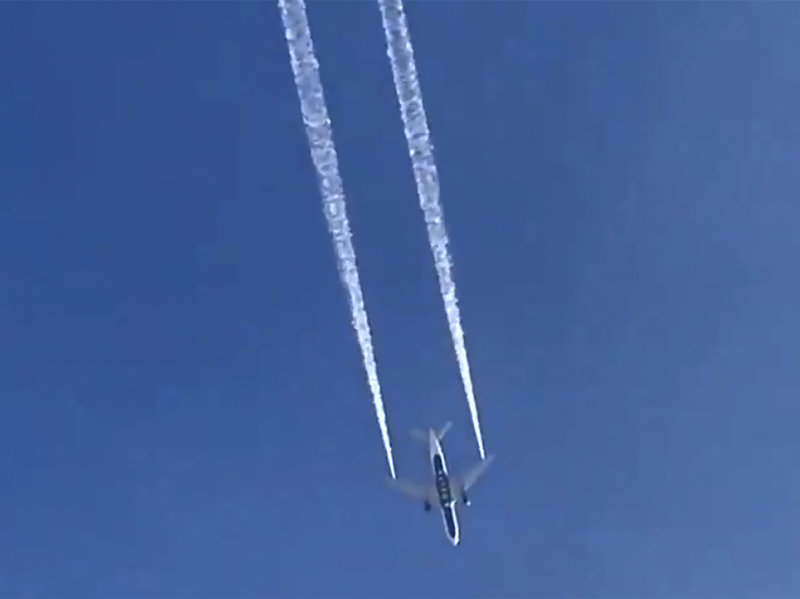plane: (378, 416, 498, 547)
